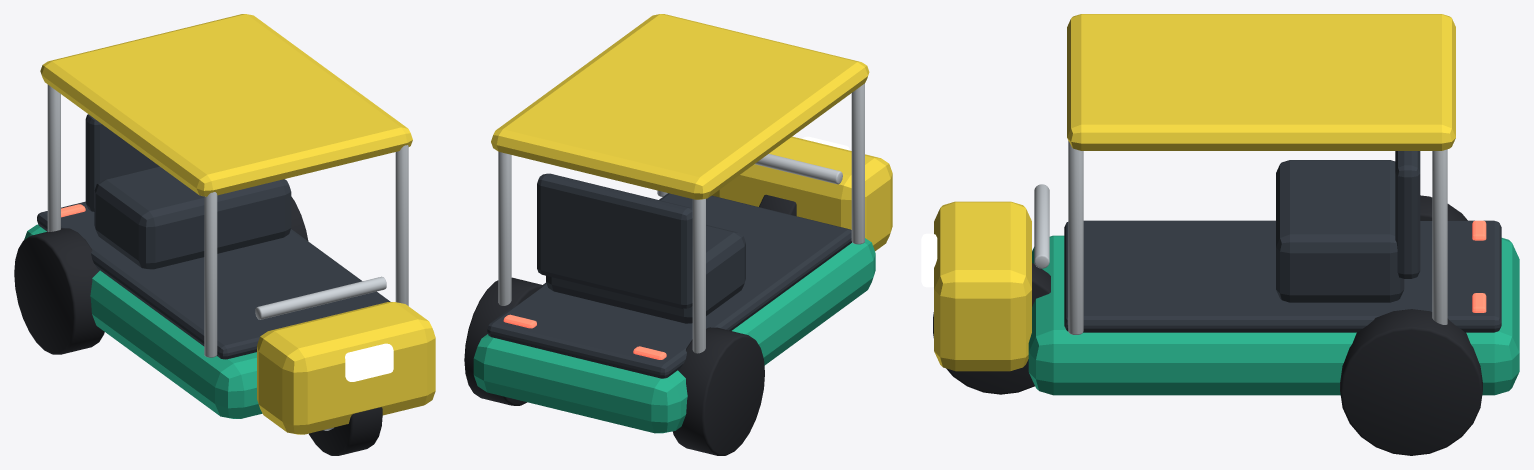
File: auto_rickshaw.glb
The picture shows the model from 3 angles, left to right: view 1: azimuth 30°, elevation 25°; view 2: azimuth 150°, elevation 25°; view 3: azimuth 270°, elevation 25°; orthographic projection. The views are drawn at different scales.
Visible parts, largest first — view 1: Auto_Canopy, Auto_Floor, Auto_Front_Nose, Auto_Seat, Auto_Chassis, Wheel_RL.002, Auto_Backrest, Auto_Canopy_Pole, Auto_Canopy_Pole.002, Wheel_FL.002, Auto_Canopy_Pole.001, Auto_Handlebar (+1 smaller); view 2: Auto_Canopy, Auto_Floor, Auto_Chassis, Auto_Backrest, Auto_Front_Nose, Wheel_RL.002, Auto_Seat, Wheel_RR.002, Auto_Canopy_Pole, Auto_Canopy_Pole.001, Auto_Canopy_Pole.003, Auto_Handlebar (+1 smaller); view 3: Auto_Canopy, Auto_Floor, Auto_Chassis, Auto_Seat, Wheel_RR.002, Auto_Front_Nose, Auto_Backrest, Auto_Canopy_Pole.002, Auto_Canopy_Pole.003, Wheel_FL.002, Auto_Handlebar, Auto_Headlamp.
Part boxes in pixels (x1,y1,x2,y2): Auto_Canopy: (40, 14, 412, 196); Auto_Floor: (37, 201, 390, 359); Auto_Front_Nose: (257, 302, 435, 434); Auto_Seat: (94, 166, 291, 269); Auto_Chassis: (24, 224, 262, 418); Wheel_RL.002: (14, 228, 104, 354); Auto_Backrest: (85, 114, 158, 211); Auto_Canopy_Pole: (204, 192, 217, 357); Auto_Canopy_Pole.002: (395, 145, 408, 305); Wheel_FL.002: (309, 407, 382, 455); Auto_Canopy_Pole.001: (47, 84, 60, 231); Auto_Handlebar: (255, 276, 386, 319); Auto_Canopy: (491, 14, 869, 199); Auto_Floor: (487, 193, 851, 378); Auto_Chassis: (473, 238, 875, 433); Auto_Backrest: (537, 173, 692, 308); Auto_Front_Nose: (712, 136, 892, 251); Wheel_RL.002: (672, 327, 764, 455); Auto_Seat: (546, 224, 745, 323); Wheel_RR.002: (464, 277, 543, 405); Auto_Canopy_Pole: (851, 83, 864, 244); Auto_Canopy_Pole.001: (692, 199, 705, 353); Auto_Canopy_Pole.003: (498, 151, 511, 305); Auto_Handlebar: (754, 154, 842, 184); Auto_Canopy: (1067, 14, 1455, 150); Auto_Floor: (1064, 220, 1501, 332); Auto_Chassis: (1028, 235, 1519, 395); Auto_Seat: (1276, 160, 1404, 302); Wheel_RR.002: (1340, 309, 1482, 455); Auto_Front_Nose: (934, 201, 1031, 371); Auto_Backrest: (1395, 151, 1420, 278); Auto_Canopy_Pole.002: (1068, 141, 1083, 334); Auto_Canopy_Pole.003: (1432, 149, 1447, 324); Wheel_FL.002: (933, 263, 1050, 394); Auto_Handlebar: (1034, 184, 1049, 268); Auto_Headlamp: (921, 233, 937, 287).
Size of the model in its own units: 1.78 by 1.98 by 3.35.
